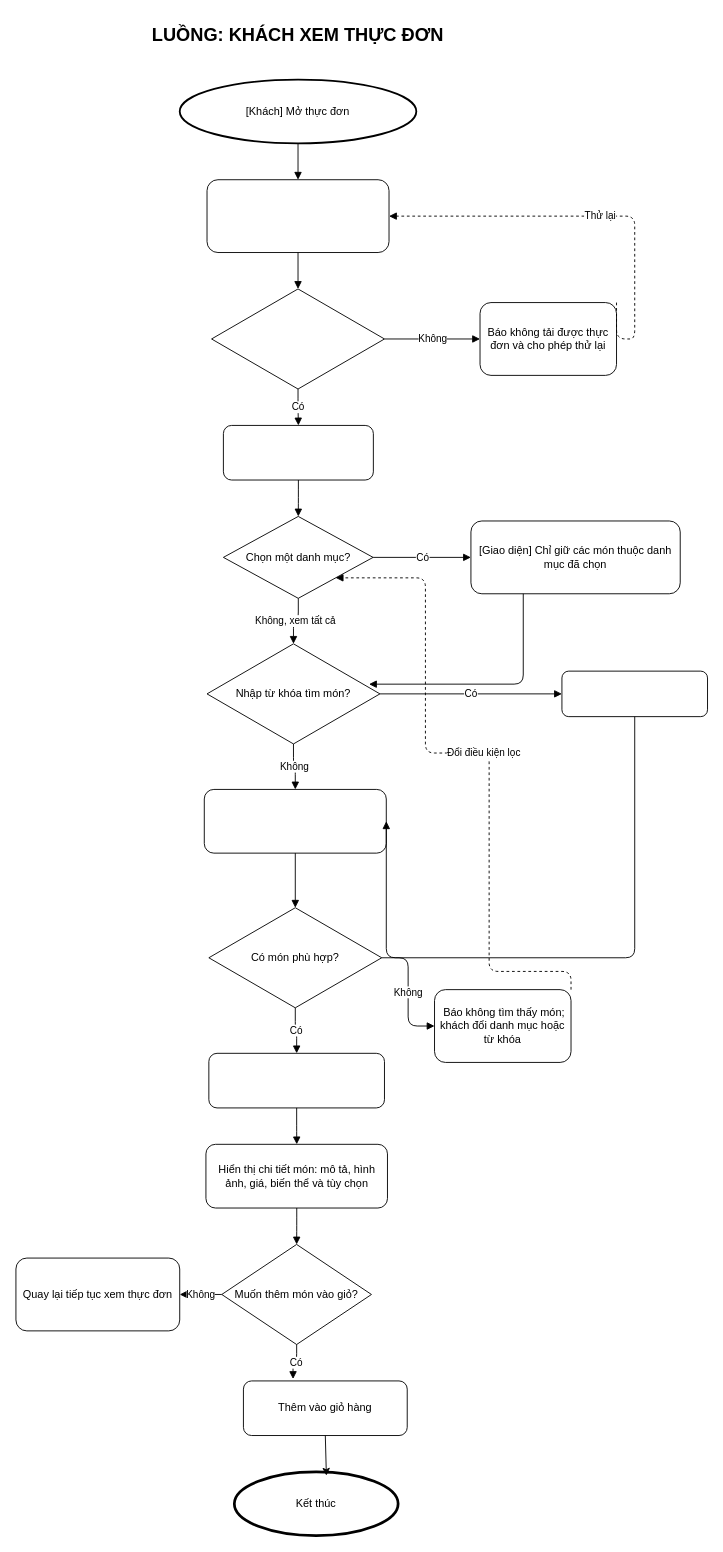
Some shapes in this 723 by 1552 pixel diagram are drawn without their labels. Each missing label, with the centre of its shape:
Chọn một món: point (296, 1080)
Hiển thị danh mục và các món còn bán: point (297, 452)
Hiển thị kết quả sau khi lọc: point (294, 821)
theo tên món trong phạm vi đang xem: point (634, 693)
Tải danh mục và danh sách món đã công bố: point (297, 216)
Tải dữ liệu thành công?: point (297, 338)
